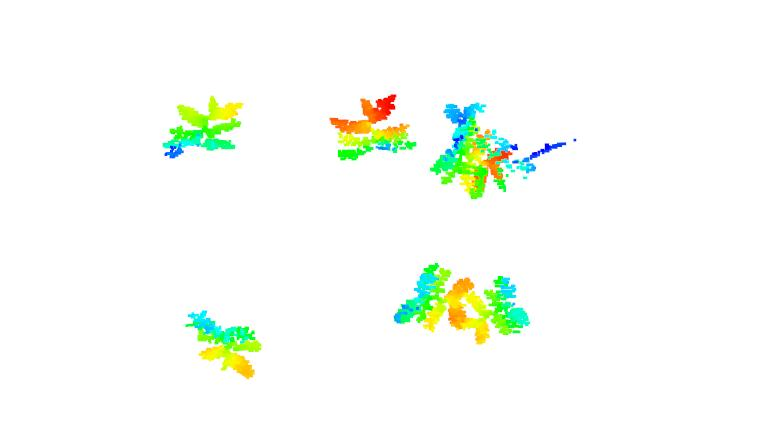chickpea: (426, 100, 523, 200), (326, 92, 418, 163), (183, 307, 262, 380), (394, 263, 474, 332), (461, 272, 533, 346), (163, 95, 244, 159)
